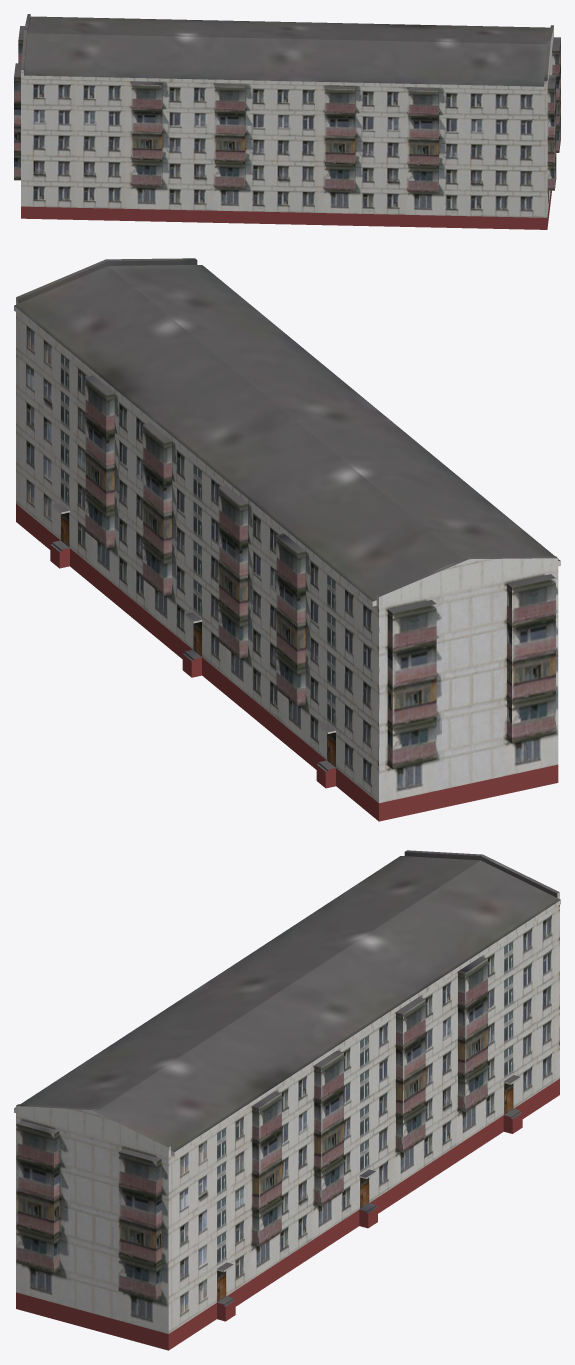
The model's file is 1-510_3entrances.glb.
3 renders of one model, top to bottom at view 1: azimuth 30°, elevation 25°; view 2: azimuth 150°, elevation 25°; view 3: azimuth 270°, elevation 25°, orthographic. The views are drawn at different scales.
Parts seen in each view (by area): view 1: ID284, ID45, ID133, ID16, ID117, ID61, ID29, ID332, ID380, ID348, ID178; view 2: ID45, ID428, ID452, ID133, ID165, ID380, ID37, ID69, ID149, ID109, ID228; view 3: ID45, ID428, ID178, ID133, ID348, ID332, ID69, ID149, ID109, ID37, ID228.
Boxes of the visible parts, x1,y1,x2,y2 form: ID284: (21, 70, 547, 217); ID45: (21, 14, 553, 86); ID133: (21, 190, 551, 229); ID16: (214, 86, 245, 188); ID117: (131, 84, 162, 186); ID61: (324, 88, 355, 191); ID29: (408, 90, 438, 192); ID332: (547, 78, 556, 190); ID380: (14, 77, 20, 180); ID348: (552, 39, 560, 152); ID178: (547, 27, 553, 216); ID45: (14, 258, 560, 601); ID428: (16, 297, 378, 802); ID452: (379, 558, 558, 803); ID133: (16, 504, 558, 821); ID165: (387, 604, 436, 769); ID380: (507, 578, 555, 743); ID37: (218, 488, 247, 658); ID69: (142, 425, 171, 595); ID149: (85, 378, 114, 548); ID109: (276, 535, 305, 706); ID228: (14, 306, 372, 606); ID45: (14, 850, 560, 1151); ID428: (168, 892, 559, 1333); ID178: (16, 1106, 168, 1333); ID133: (16, 1078, 559, 1350); ID348: (118, 1152, 161, 1301); ID332: (16, 1124, 59, 1273); ID69: (314, 1053, 343, 1206); ID149: (252, 1093, 281, 1246); ID109: (458, 959, 487, 1112); ID37: (396, 999, 425, 1152); ID228: (174, 900, 560, 1155).
Bounding box in the file's own units: 52.15 × 17.75 × 40.09.
Materials: 59 (56 with a texture image).
